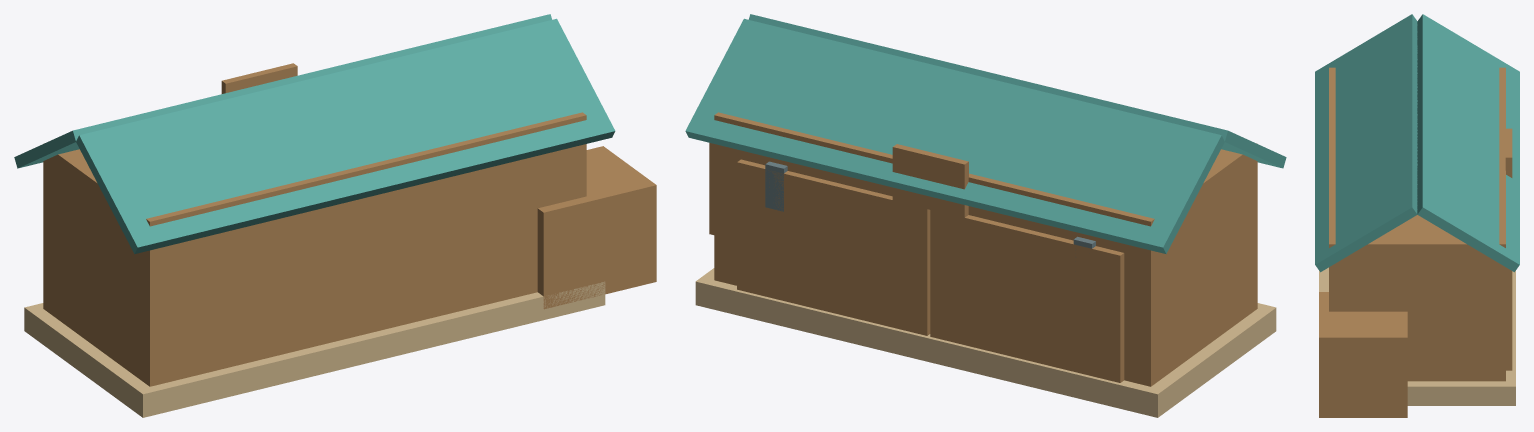
File: Barn.glb
3 views of the same model, side by side, from view 1: azimuth 30°, elevation 25°; view 2: azimuth 150°, elevation 25°; view 3: azimuth 270°, elevation 25° (orthographic). The views are drawn at different scales.
Visible parts, largest first — view 1: barn-static-barn-wood, barn-static-barn-roof, barn-static-barn-stone; view 2: barn-static-barn-wood, barn-static-barn-roof, barn-static-barn-stone, barn-static-barn-iron; view 3: barn-static-barn-roof, barn-static-barn-wood, barn-static-barn-stone.
Boxes of the visible parts, <box> form: barn-static-barn-wood: <box>43,63,656,386</box>; barn-static-barn-roof: <box>14,14,615,254</box>; barn-static-barn-stone: <box>24,281,605,417</box>; barn-static-barn-wood: <box>709,112,1257,386</box>; barn-static-barn-roof: <box>685,14,1286,253</box>; barn-static-barn-stone: <box>695,268,1276,417</box>; barn-static-barn-iron: <box>765,161,1095,248</box>; barn-static-barn-roof: <box>1315,14,1519,272</box>; barn-static-barn-wood: <box>1319,67,1512,417</box>; barn-static-barn-stone: <box>1319,267,1515,405</box>.
Bounding box in the file's own units: 5.08 × 2.27 × 2.08.
